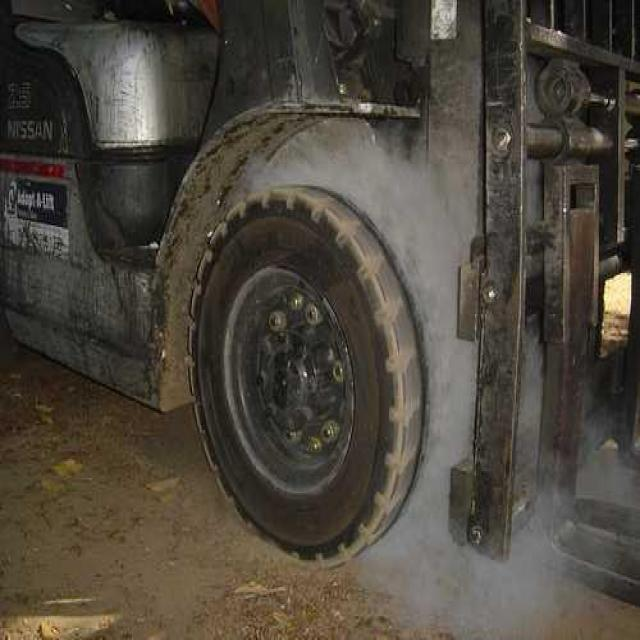Chariot elevateur: (0, 0, 639, 611)
